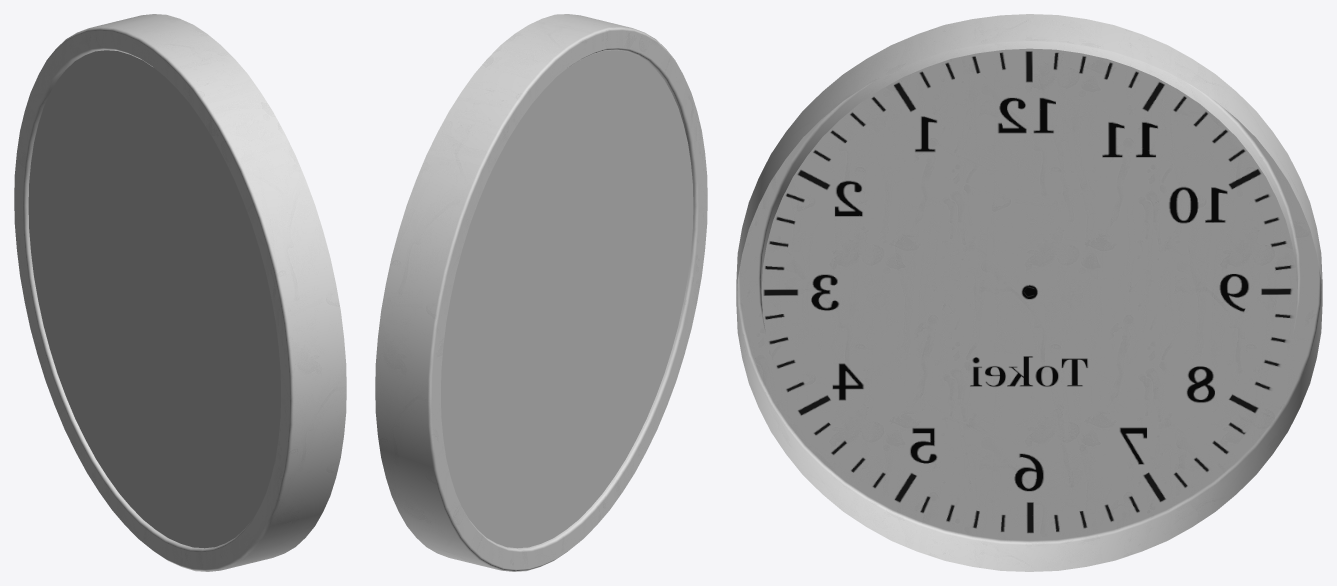
The model's file is SM_Clock_02.fbx.
The picture shows the model from 3 angles, left to right: view 1: azimuth 30°, elevation 25°; view 2: azimuth 150°, elevation 25°; view 3: azimuth 270°, elevation 25°; orthographic projection. The views are drawn at different scales.
Parts seen in each view (by area): view 1: SM_Clock_02_LOD0; view 2: SM_Clock_02_LOD0; view 3: SM_Clock_02_LOD0.
Part boxes in pixels (<box>): SM_Clock_02_LOD0: <box>14,14,346,571</box>; SM_Clock_02_LOD0: <box>375,14,707,571</box>; SM_Clock_02_LOD0: <box>736,14,1322,571</box>.
Bounding box in the file's own units: 4 × 35 × 35.
